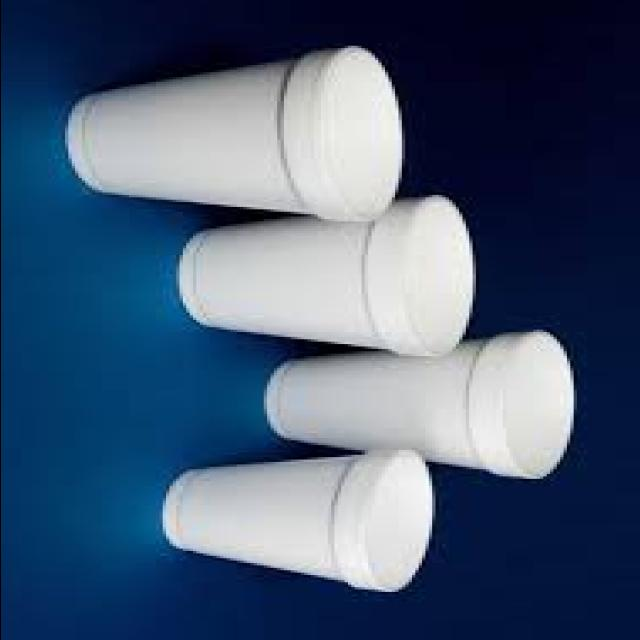styrofoam: (69, 46, 399, 221), (179, 195, 472, 356), (266, 331, 572, 479), (163, 450, 432, 591)
